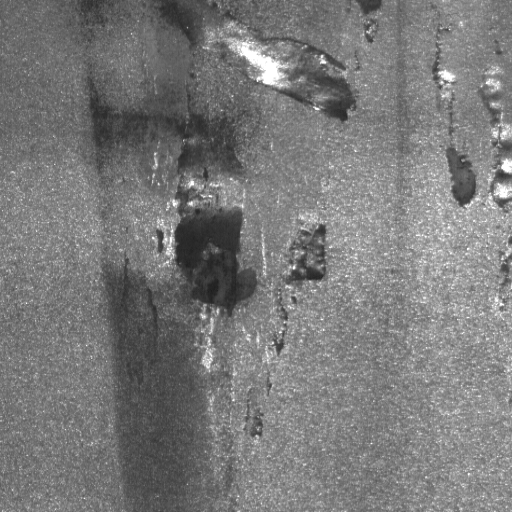aokeng: (434, 48, 476, 204), (478, 64, 512, 201)
qiaopi: (161, 2, 358, 123), (174, 104, 256, 318)
